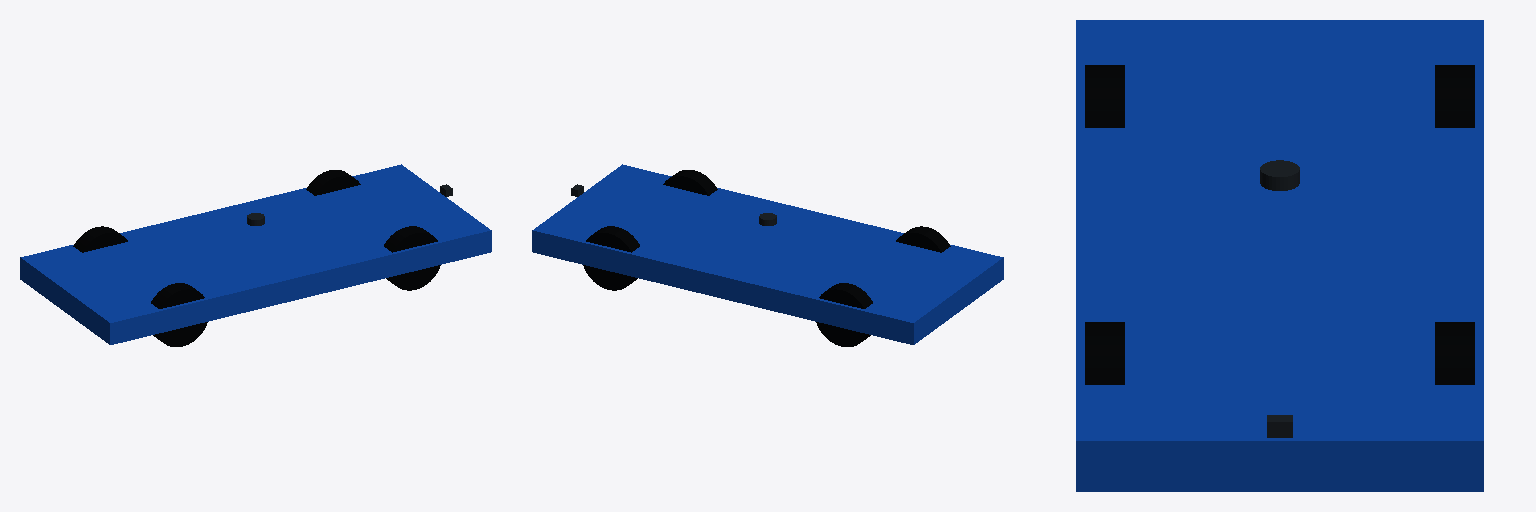
The robot description file, URDF, robot "parking_robot":
<?xml version='1.0' encoding='utf-8'?>
<robot name="parking_robot">
  <link name="base_footprint" />
  <link name="base_link">
    <visual>
      <origin xyz="0.0 0.0 0.0" rpy="0 0 0" />
      <geometry>
        <box size="4.5 1.84 0.25" />
      </geometry>
      <material name="base_link_material">
        <color rgba="0.08 0.31 0.68 1" />
      </material>
    </visual>
  </link>
  <joint name="base_fixed" type="fixed">
    <parent link="base_footprint" />
    <child link="base_link" />
    <origin xyz="0.0 0.0 0.36" rpy="0 0 0" />
  </joint>
  <link name="front_left_wheel">
    <visual>
      <origin xyz="0.0 0.0 0.0" rpy="0 0 0" />
      <geometry>
        <cylinder radius="0.32" length="0.18" />
      </geometry>
      <material name="front_left_wheel_material">
        <color rgba="0.035 0.04 0.045 1" />
      </material>
    </visual>
  </link>
  <link name="front_left_knuckle" />
  <joint name="front_left_steering_joint" type="revolute">
    <parent link="base_link" />
    <child link="front_left_knuckle" />
    <origin xyz="1.375 0.79 -0.03999999999999998" rpy="0 0 0" />
    <axis xyz="0 0 1" />
    <limit lower="-0.65" upper="0.65" effort="1500" velocity="1.5" />
  </joint>
  <joint name="front_left_wheel_joint" type="continuous">
    <parent link="front_left_knuckle" />
    <child link="front_left_wheel" />
    <origin xyz="0.0 0.0 0.0" rpy="-1.5707963267948966 0 0" />
    <axis xyz="0 0 1" />
  </joint>
  <link name="front_right_wheel">
    <visual>
      <origin xyz="0.0 0.0 0.0" rpy="0 0 0" />
      <geometry>
        <cylinder radius="0.32" length="0.18" />
      </geometry>
      <material name="front_right_wheel_material">
        <color rgba="0.035 0.04 0.045 1" />
      </material>
    </visual>
  </link>
  <link name="front_right_knuckle" />
  <joint name="front_right_steering_joint" type="revolute">
    <parent link="base_link" />
    <child link="front_right_knuckle" />
    <origin xyz="1.375 -0.79 -0.03999999999999998" rpy="0 0 0" />
    <axis xyz="0 0 1" />
    <limit lower="-0.65" upper="0.65" effort="1500" velocity="1.5" />
  </joint>
  <joint name="front_right_wheel_joint" type="continuous">
    <parent link="front_right_knuckle" />
    <child link="front_right_wheel" />
    <origin xyz="0.0 0.0 0.0" rpy="-1.5707963267948966 0 0" />
    <axis xyz="0 0 1" />
  </joint>
  <link name="rear_left_wheel">
    <visual>
      <origin xyz="0.0 0.0 0.0" rpy="0 0 0" />
      <geometry>
        <cylinder radius="0.32" length="0.18" />
      </geometry>
      <material name="rear_left_wheel_material">
        <color rgba="0.035 0.04 0.045 1" />
      </material>
    </visual>
  </link>
  <joint name="rear_left_wheel_joint" type="continuous">
    <parent link="base_link" />
    <child link="rear_left_wheel" />
    <origin xyz="-1.375 0.79 -0.03999999999999998" rpy="-1.5707963267948966 0 0" />
    <axis xyz="0 0 1" />
  </joint>
  <link name="rear_right_wheel">
    <visual>
      <origin xyz="0.0 0.0 0.0" rpy="0 0 0" />
      <geometry>
        <cylinder radius="0.32" length="0.18" />
      </geometry>
      <material name="rear_right_wheel_material">
        <color rgba="0.035 0.04 0.045 1" />
      </material>
    </visual>
  </link>
  <joint name="rear_right_wheel_joint" type="continuous">
    <parent link="base_link" />
    <child link="rear_right_wheel" />
    <origin xyz="-1.375 -0.79 -0.03999999999999998" rpy="-1.5707963267948966 0 0" />
    <axis xyz="0 0 1" />
  </joint>
  <link name="lidar_link">
    <visual>
      <origin xyz="0.0 0.0 0.0" rpy="0 0 0" />
      <geometry>
        <cylinder radius="0.09" length="0.07" />
      </geometry>
      <material name="lidar_link_material">
        <color rgba="0.12 0.14 0.16 1" />
      </material>
    </visual>
  </link>
  <joint name="lidar_link_fixed" type="fixed">
    <parent link="base_link" />
    <child link="lidar_link" />
    <origin xyz="0.0 0.0 0.4" rpy="0 0 0" />
  </joint>
  <link name="camera_link">
    <visual>
      <origin xyz="0.0 0.0 0.0" rpy="0 0 0" />
      <geometry>
        <box size="0.08 0.12 0.08" />
      </geometry>
      <material name="camera_link_material">
        <color rgba="0.12 0.14 0.16 1" />
      </material>
    </visual>
  </link>
  <joint name="camera_link_fixed" type="fixed">
    <parent link="base_link" />
    <child link="camera_link" />
    <origin xyz="2.25 0.0 0.2" rpy="0 0 0" />
  </joint>
  <link name="imu_link" />
  <joint name="imu_link_fixed" type="fixed">
    <parent link="base_link" />
    <child link="imu_link" />
    <origin xyz="0.0 0.0 0.02" rpy="0 0 0" />
  </joint>
  <link name="camera_optical_frame" />
  <joint name="camera_optical_fixed" type="fixed">
    <parent link="camera_link" />
    <child link="camera_optical_frame" />
    <origin xyz="0.07 0.0 0.0" rpy="-1.5707963267948966 0 -1.5707963267948966" />
  </joint>
</robot>

--- What the picture shows (computed from the rendered views, not written in the file) ---
The picture shows the robot from 3 angles, left to right: view 1: azimuth 30°, elevation 25°; view 2: azimuth 150°, elevation 25°; view 3: azimuth 270°, elevation 25°; orthographic projection.
Robot: parking_robot — 12 links, 11 joints (2 revolute, 4 continuous, 5 fixed); root link base_footprint; default pose: every joint at zero.
Visible links, largest first — view 1: base_link, front_right_wheel, rear_right_wheel, rear_left_wheel, front_left_wheel; view 2: base_link, front_left_wheel, rear_left_wheel, rear_right_wheel, front_right_wheel; view 3: base_link, front_left_wheel, front_right_wheel, rear_left_wheel, rear_right_wheel, lidar_link, camera_link.
Link boxes in pixels (x1,y1,x2,y2): base_link: (20, 164, 491, 344); front_right_wheel: (384, 226, 440, 290); rear_right_wheel: (151, 283, 207, 346); rear_left_wheel: (73, 226, 127, 252); front_left_wheel: (306, 170, 360, 195); base_link: (532, 164, 1003, 344); front_left_wheel: (583, 226, 639, 290); rear_left_wheel: (816, 283, 872, 346); rear_right_wheel: (896, 226, 950, 252); front_right_wheel: (663, 170, 717, 195); base_link: (1076, 20, 1483, 491); front_left_wheel: (1435, 322, 1474, 384); front_right_wheel: (1085, 322, 1124, 384); rear_left_wheel: (1435, 65, 1474, 127); rear_right_wheel: (1085, 65, 1124, 127); lidar_link: (1260, 160, 1299, 190); camera_link: (1267, 415, 1292, 437).
Size in the robot's own frame: 4.54 by 1.84 by 0.795 metres.
Geometry: primitives only (box / cylinder / sphere), no mesh files.
